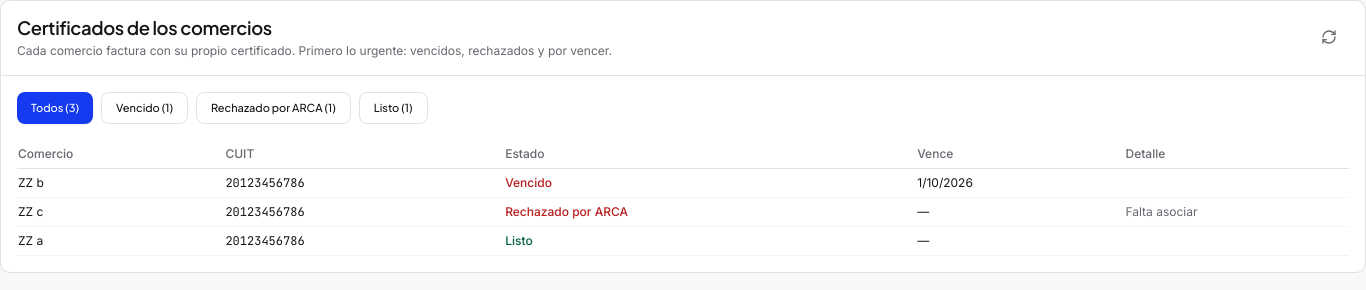
Test case: certificados de los comercios para soporte › muestra conteos por estado y filtra
Expected: the button "Vencido (1)" is shown, 101,92 -> 188,124
Step 1. Click the button "Rechazado por ARCA (1)" → (273, 108), box 196,92 -> 351,124
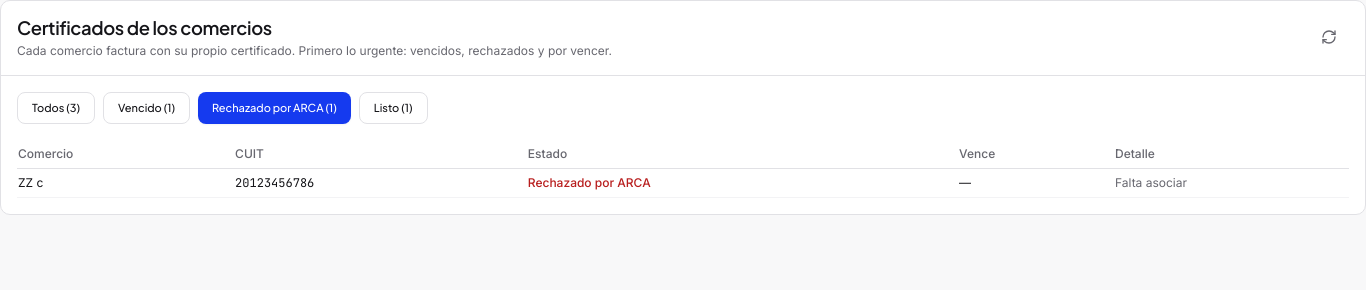
Expected: the text "Falta asociar" is shown, 1114,169 -> 1349,198
Now the text "ZZ a" is gone
